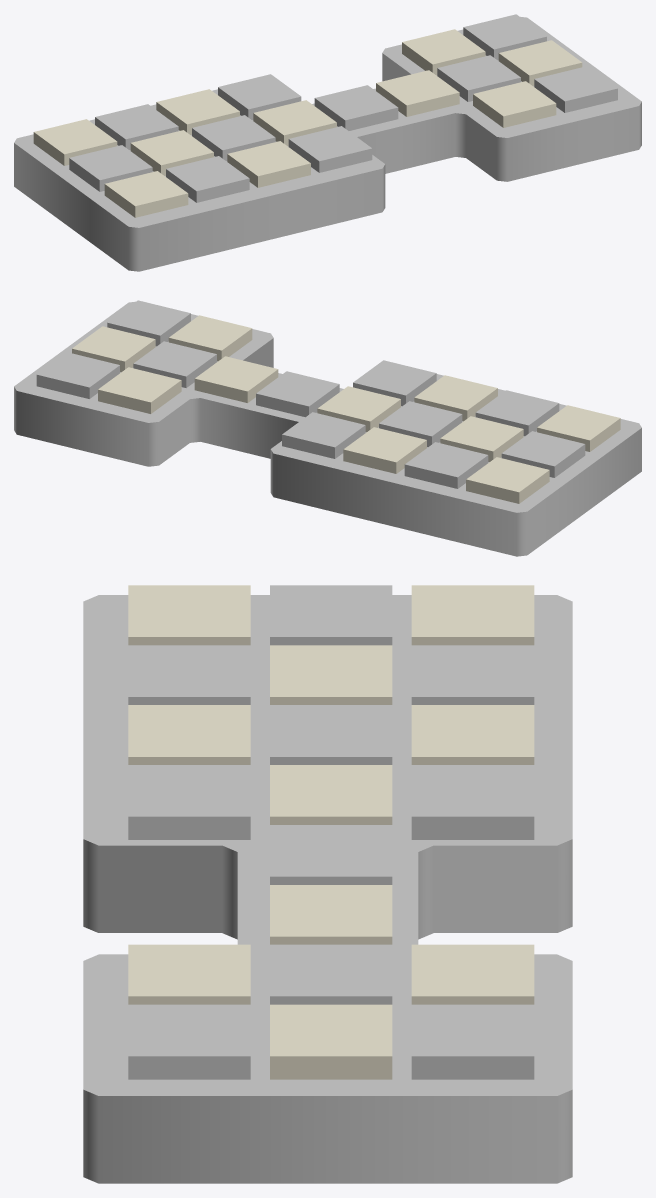
The model's file is game_of_ur.obj.
3 renders of one model, top to bottom at view 1: azimuth 30°, elevation 25°; view 2: azimuth 150°, elevation 25°; view 3: azimuth 270°, elevation 25°, orthographic. The views are drawn at different scales.
Visible parts, largest first — view 1: twenty_square_board, source_part_044, source_part_212, source_part_152, source_part_080, source_part_200, source_part_248, source_part_116, source_part_188, source_part_068, source_part_056, source_part_236 (+9 smaller); view 2: twenty_square_board, source_part_068, source_part_236, source_part_104, source_part_200, source_part_140, source_part_176, source_part_272, source_part_188, source_part_056, source_part_044, source_part_212 (+9 smaller); view 3: twenty_square_board, source_part_272, source_part_248, source_part_260, source_part_176, source_part_152, source_part_068, source_part_236, source_part_044, source_part_212, source_part_056, source_part_224 (+9 smaller).
Boxes of the visible parts, x1,y1,x2,y2 form: twenty_square_board: (14,16,641,271); source_part_044: (104,171,188,217); source_part_212: (473,81,556,127); source_part_152: (288,126,372,172); source_part_080: (166,156,249,202); source_part_200: (376,70,459,116); source_part_248: (534,66,617,112); source_part_116: (227,141,310,187); source_part_188: (314,85,398,130); source_part_068: (33,119,117,165); source_part_056: (69,145,152,191); source_part_236: (402,29,485,75); twenty_square_board: (14,301,641,556); source_part_068: (466,457,549,503); source_part_236: (98,367,181,413); source_part_104: (404,442,488,488); source_part_200: (194,356,278,402); source_part_140: (343,427,426,473); source_part_176: (282,412,365,458); source_part_272: (36,352,119,398); source_part_188: (256,371,339,417); source_part_056: (501,431,585,477); source_part_044: (537,405,620,451); source_part_212: (168,315,252,361); twenty_square_board: (83,595,572,1183); source_part_272: (411,1004,534,1079); source_part_248: (128,1004,250,1079); source_part_260: (270,1004,392,1079); source_part_176: (411,765,534,839); source_part_152: (128,765,250,839); source_part_068: (411,585,534,645); source_part_236: (411,944,534,1004); source_part_044: (128,585,250,645); source_part_212: (128,944,250,1004); source_part_056: (270,585,392,645); source_part_224: (270,944,392,1004).
Size of the model in its own units: 0.92 by 0.095 by 0.38.
